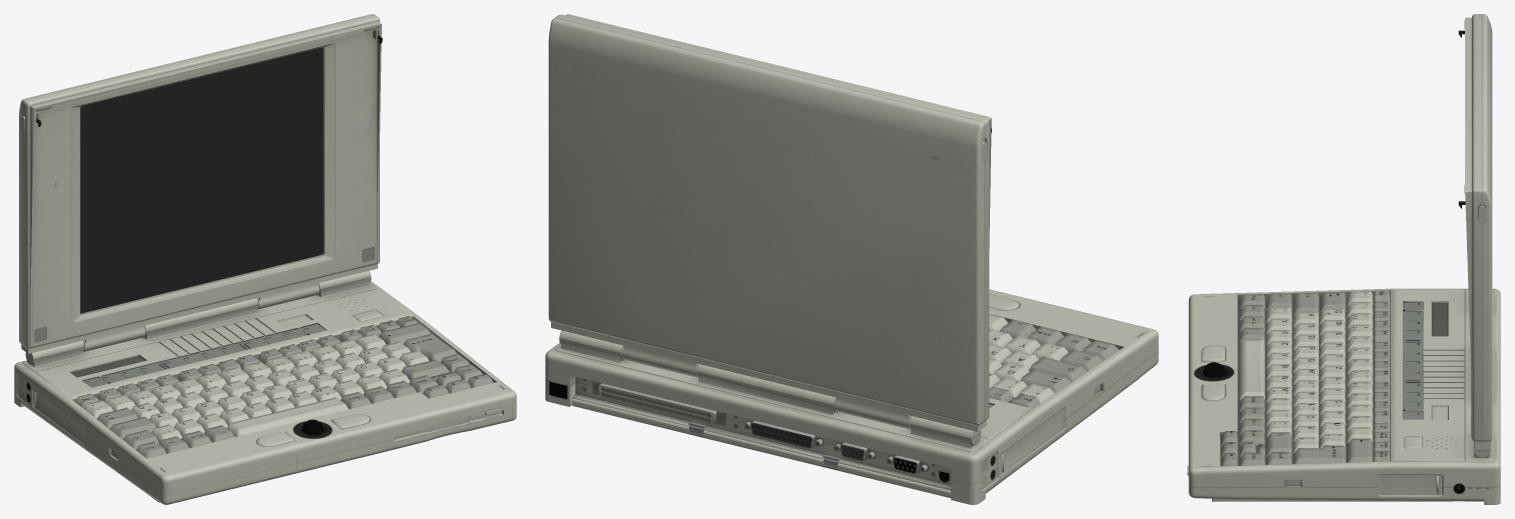
Rendered from laptop.glb.
The picture shows the model from 3 angles, left to right: view 1: azimuth 30°, elevation 25°; view 2: azimuth 150°, elevation 25°; view 3: azimuth 270°, elevation 25°; orthographic projection. The views are drawn at different scales.
Visible parts, largest first — view 1: classic_laptop_screen, classic_laptop; view 2: classic_laptop_screen, classic_laptop, classic_laptop_stand; view 3: classic_laptop, classic_laptop_screen.
Boxes of the visible parts, left/top/right/bottom form: classic_laptop_screen: left=19, top=14, right=382, bottom=353; classic_laptop: left=14, top=271, right=516, bottom=504; classic_laptop_screen: left=548, top=14, right=991, bottom=431; classic_laptop: left=545, top=289, right=1158, bottom=504; classic_laptop_stand: left=572, top=398, right=950, bottom=498; classic_laptop: left=1187, top=288, right=1500, bottom=504; classic_laptop_screen: left=1458, top=14, right=1492, bottom=446.
Bounding box in the file's own units: 0.6519 × 0.5428 × 0.4859.
2 materials, 1 textured.
